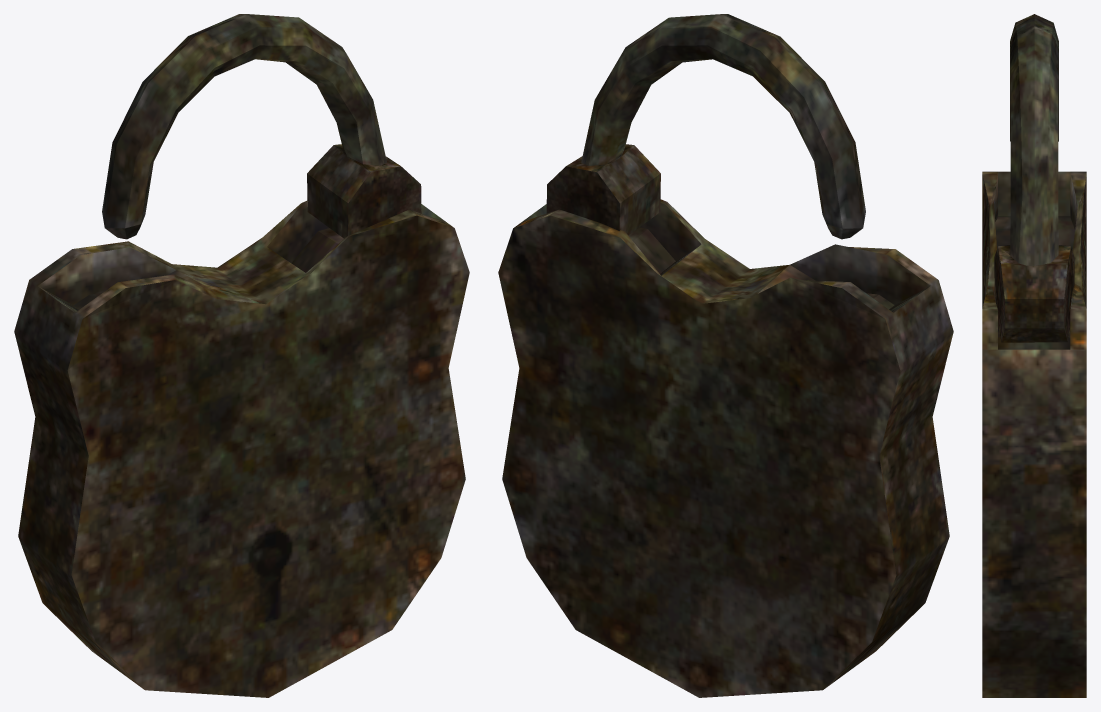
The model's file is padlock_broken.dae.
The picture shows the model from 3 angles, left to right: view 1: azimuth 30°, elevation 25°; view 2: azimuth 150°, elevation 25°; view 3: azimuth 270°, elevation 25°; orthographic projection. The views are drawn at different scales.
Visible parts, largest first — view 1: polySurface1, polySurface2; view 2: polySurface1, polySurface2; view 3: polySurface1, polySurface2.
Boxes of the visible parts, x1,y1,x2,y2 form: polySurface1: (14, 201, 469, 697); polySurface2: (102, 14, 421, 239); polySurface1: (498, 199, 953, 697); polySurface2: (546, 14, 865, 239); polySurface1: (982, 171, 1086, 697); polySurface2: (994, 14, 1074, 342).
Bounding box in the file's own units: 0.2758 × 0.4346 × 0.0634.
